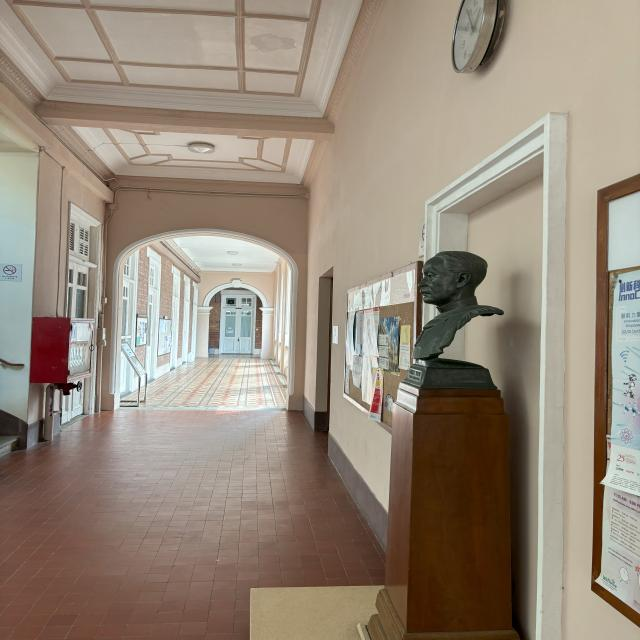loke_yew_statue: (393, 245, 508, 396)
loke_yew_statue_base: (353, 379, 536, 640)
